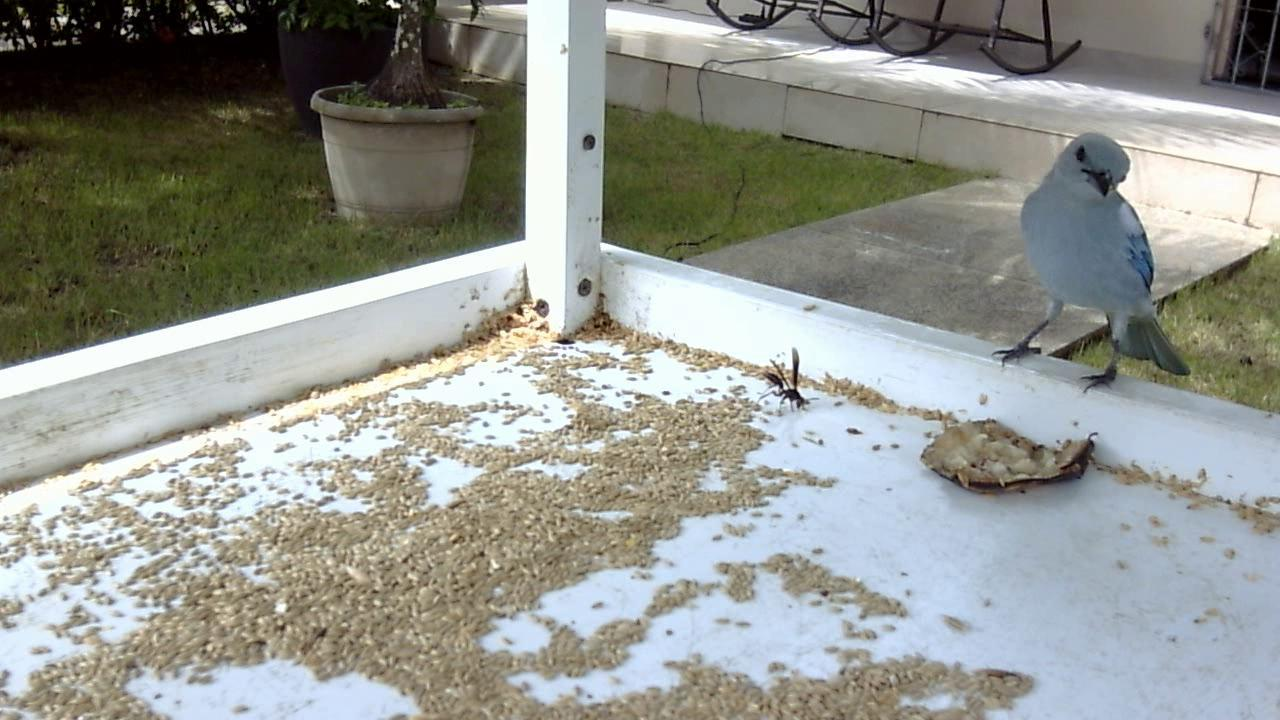sanhaco_da_amazonia: (988, 127, 1196, 401)
